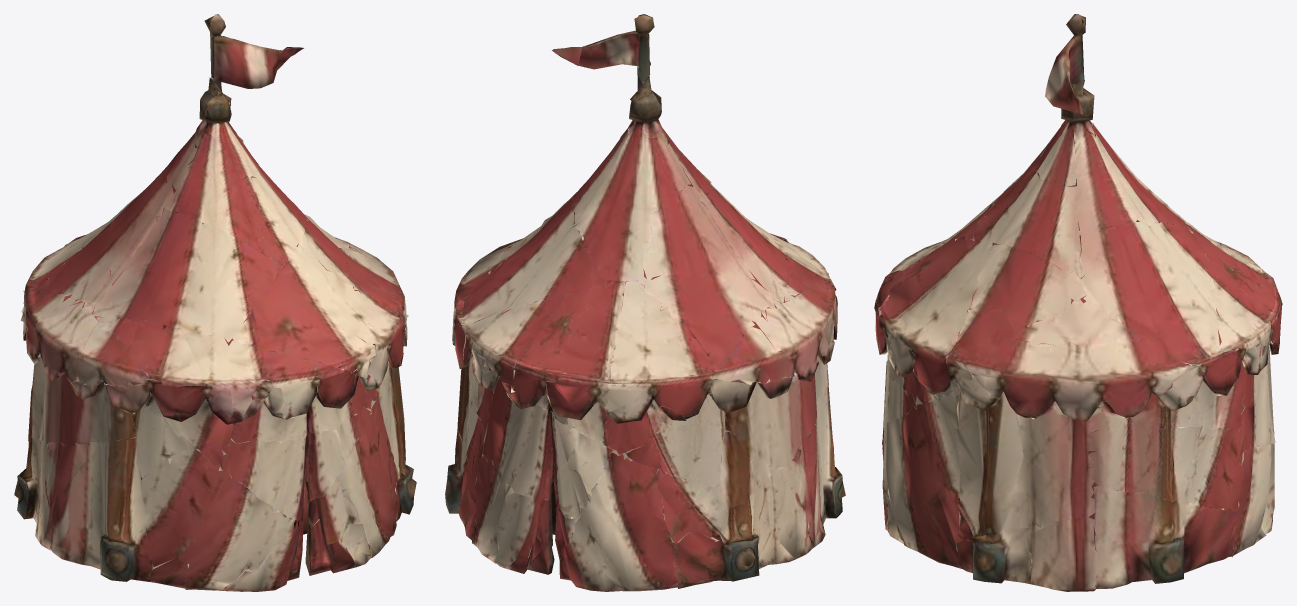
The model's file is prop_fair_tent.glb.
The picture shows the model from 3 angles, left to right: view 1: azimuth 30°, elevation 25°; view 2: azimuth 150°, elevation 25°; view 3: azimuth 270°, elevation 25°; orthographic projection.
Parts seen in each view (by area): view 1: Mesh_0; view 2: Mesh_0; view 3: Mesh_0.
Boxes of the visible parts, x1,y1,x2,y2 form: Mesh_0: (14,14,416,591); Mesh_0: (445,14,845,591); Mesh_0: (874,14,1282,591).
Bounding box in the file's own units: 0.6008 × 0.8528 × 0.6328.
1 material, 1 textured.
